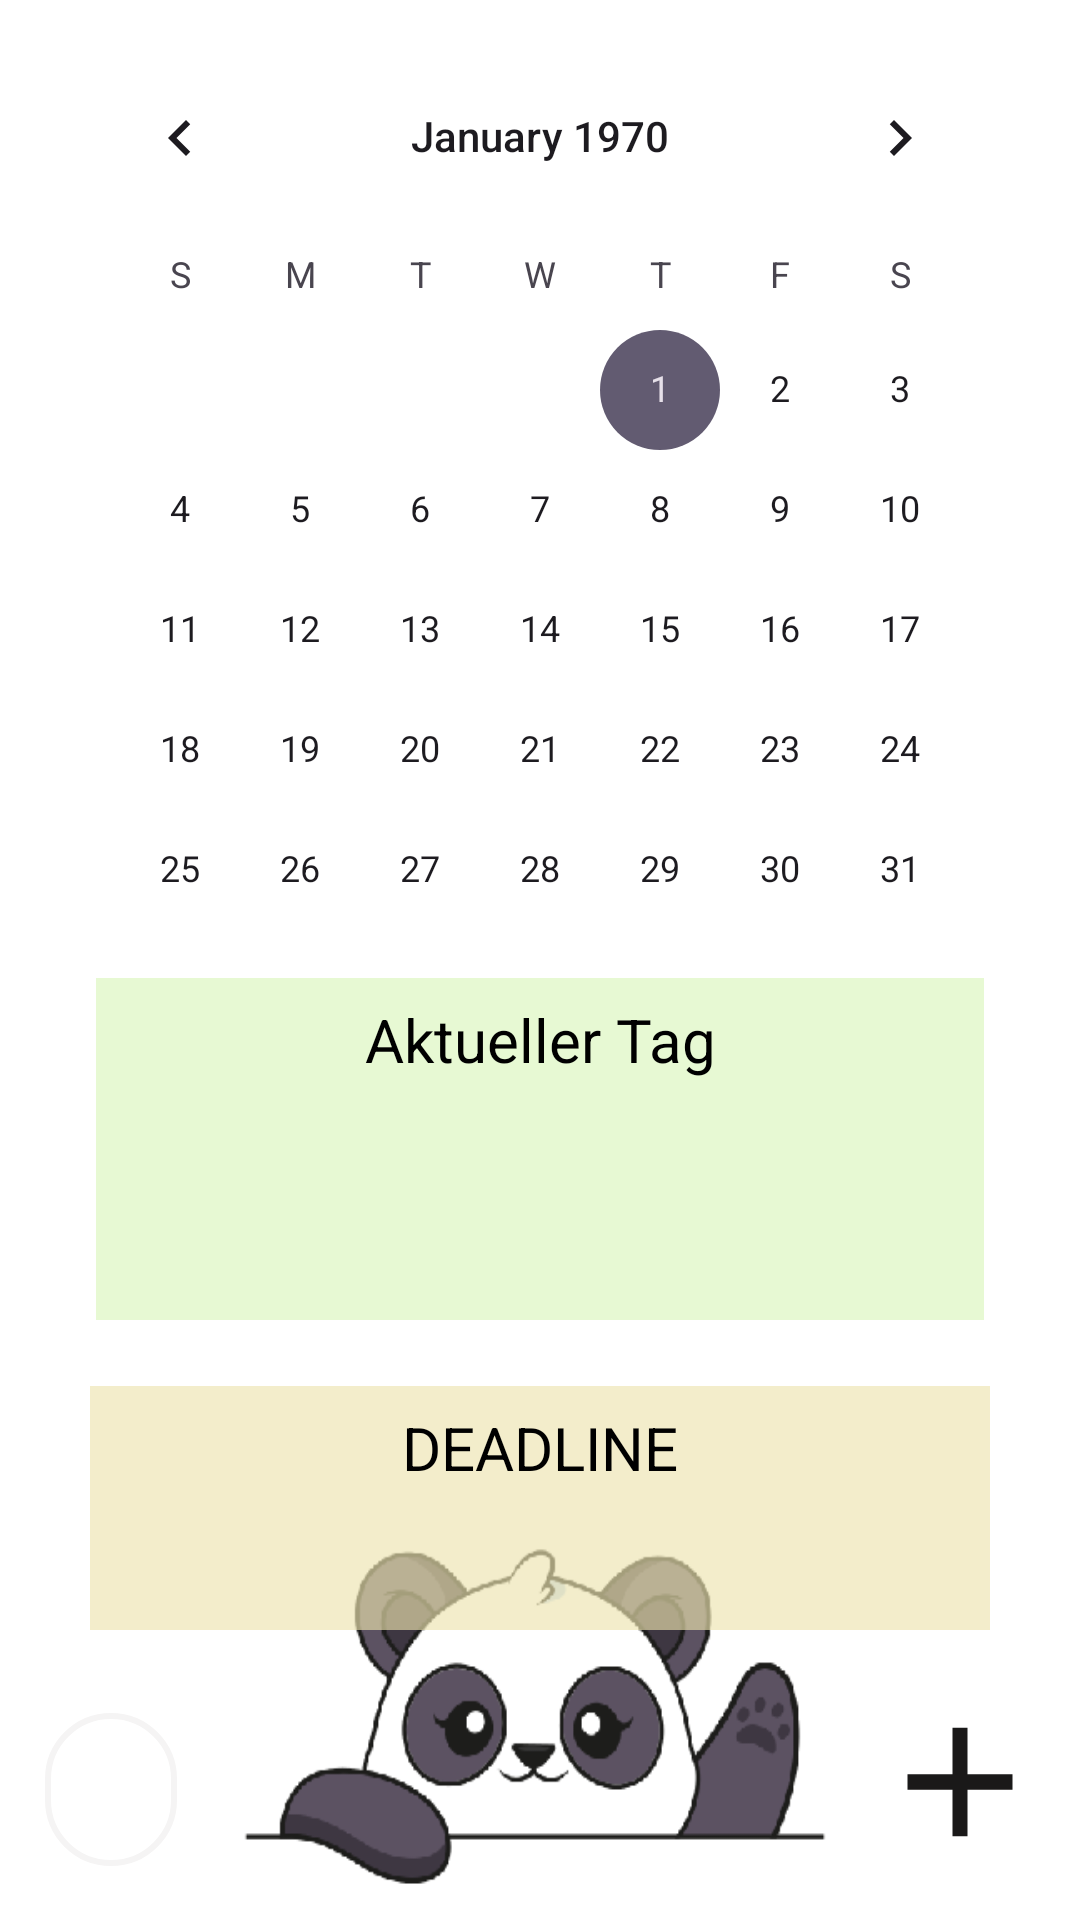

Screen size 1080×1920. Icon name, then its box in pixels as (x1, y1, x2, y2):
Hinzufügen von Aufgaben, Terminen: (907, 1727, 1013, 1837)
